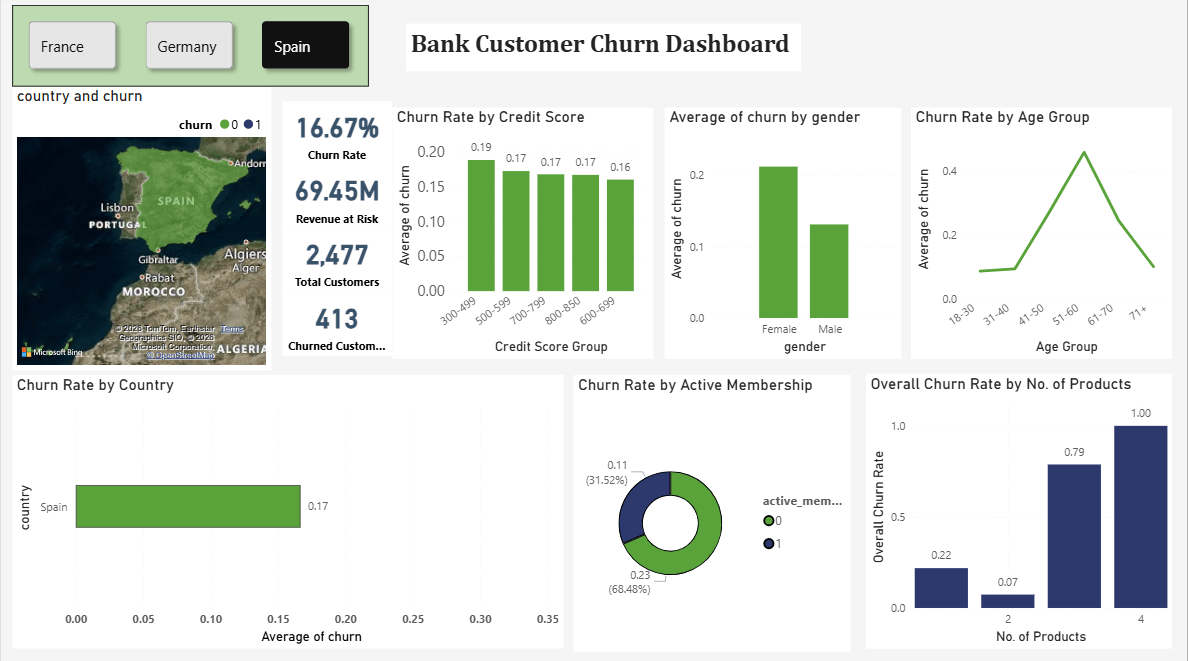

This screenshot's page, from the dashboard's own definition file:
{"tool":"powerbi","page":{"name":"Page 1","canvas":[1280,720],"ordinal":0},"visuals":[{"type":"clusteredBarChart","title":"Churn Rate by Country","fields":{"Category":["BC_Customers.country"],"Y":["Avg(BC_accounts.churn)"]},"box":[12.1,410.1,594.9,295.4],"z":0},{"type":"clusteredColumnChart","fields":{"Category":["BC_accounts.products_number"],"Y":["BC_accounts.Overall Churn Rate"]},"box":[933.6,408.8,330.5,296.8],"z":1000},{"type":"lineChart","title":"Churn Rate by Age Group","fields":{"Y":["Avg(BC_accounts.churn)"],"Category":["BC_Customers.Age Group"]},"box":[982.1,121.4,282,271.2],"z":2000},{"type":"donutChart","title":"Churn Rate by Active Membership","fields":{"Category":["BC_accounts.active_member"],"Y":["Avg(BC_accounts.churn)"]},"box":[617.9,410.1,299.5,299.5],"z":3000},{"type":"card","fields":{"Values":["BC_accounts.Revenue at Risk"]},"box":[303.5,183.5,118.7,68.8],"z":4000},{"type":"card","fields":{"Values":["BC_Customers.Total Customers"]},"box":[303.5,252.3,118.7,68.8],"z":5000},{"type":"card","fields":{"Values":["BC_accounts.Overall Churn Rate"]},"box":[303.5,114.7,118.7,68.8],"z":6000},{"type":"filledMap","fields":{"Category":["BC_Customers.country"],"Series":["BC_accounts.churn"]},"box":[12.1,98.5,279.3,306.2],"z":7000},{"type":"advancedSlicerVisual","fields":{"Values":["BC_Customers.country"]},"box":[12.1,10.8,384.5,87.7],"z":8000},{"type":"textbox","box":[437.1,31,426.3,51.3],"z":9000},{"type":"card","fields":{"Values":["BC_accounts.Churned Customers"]},"box":[303.5,321.1,118.7,68.8],"z":10000},{"type":"columnChart","fields":{"Category":["BC_Customers.gender"],"Y":["Avg(BC_accounts.churn)"]},"box":[716.4,121.4,255,271.2],"z":11000},{"type":"clusteredColumnChart","title":"Churn Rate by Credit Score","fields":{"Y":["Avg(BC_accounts.churn)"],"Category":["BC_Customers.Credit Score Group"]},"box":[422.3,121.4,282,271.2],"z":12000}]}

Visuals, with their boxes in screenshot pixels (x1, y1, x2, y2), scaled from the page's 1280x720 canvas onto the 1188x661 screenshot:
"Churn Rate by Country" clusteredBarChart: 11,376,563,648
clusteredColumnChart - BC_accounts.products_number x BC_accounts.Overall Churn Rate: 866,375,1173,648
"Churn Rate by Age Group" lineChart: 912,111,1173,360
"Churn Rate by Active Membership" donutChart: 573,376,851,651
card - BC_accounts.Revenue at Risk: 282,168,392,232
card - BC_Customers.Total Customers: 282,232,392,295
card - BC_accounts.Overall Churn Rate: 282,105,392,168
filledMap - BC_Customers.country x BC_accounts.churn: 11,90,270,372
advancedSlicerVisual - BC_Customers.country: 11,10,368,90
textbox: 406,28,801,76
card - BC_accounts.Churned Customers: 282,295,392,358
columnChart - BC_Customers.gender x Avg(BC_accounts.churn): 665,111,902,360
"Churn Rate by Credit Score" clusteredColumnChart: 392,111,654,360
